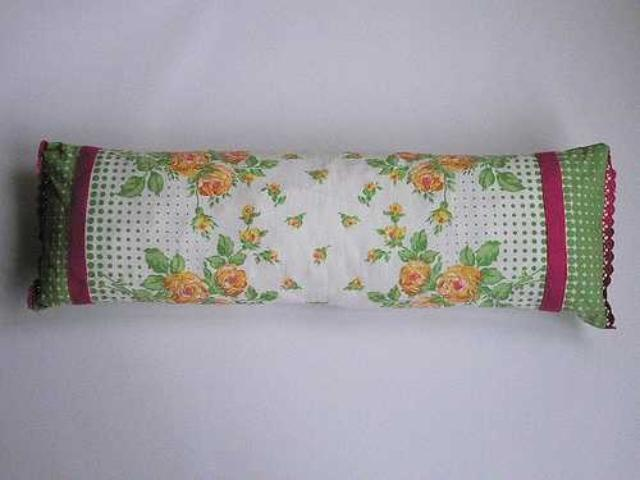pillow: (29, 138, 617, 328)
